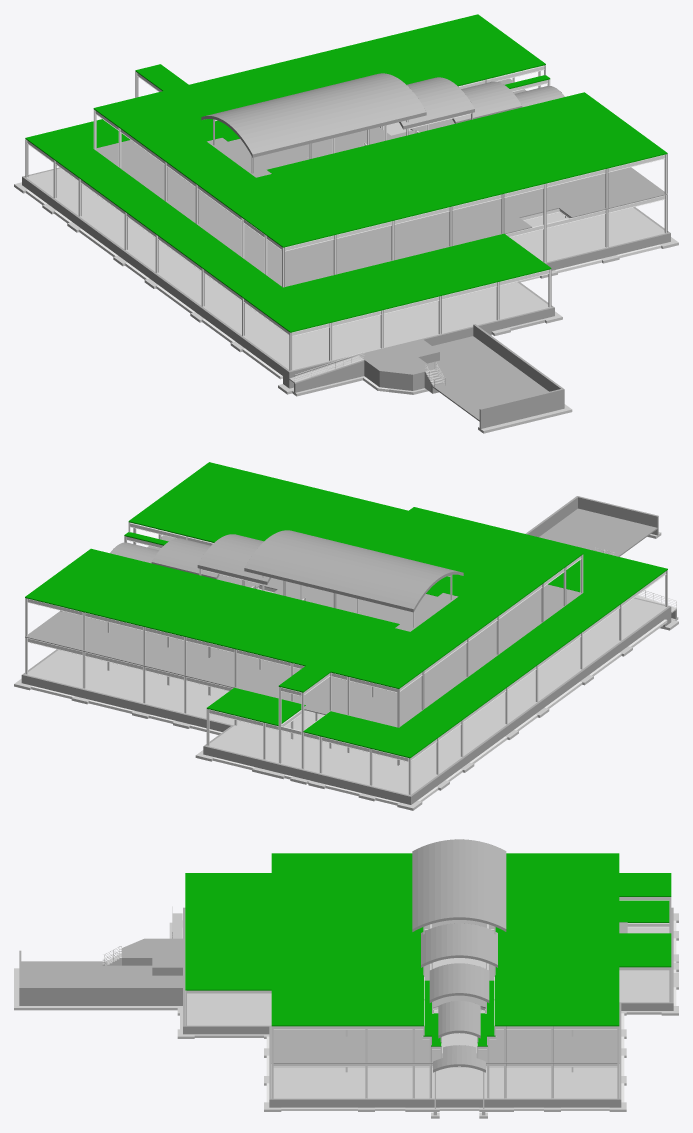
3 views of the same model, one above another, from view 1: azimuth 30°, elevation 25°; view 2: azimuth 150°, elevation 25°; view 3: azimuth 270°, elevation 25° (orthographic). The views are drawn at different scales.
Parts seen in each view (by area): view 1: 22_kIllv127wWuzeSbBoPm, 2oJ$jhEMn3nhAqn0NbtYKu, 2XnCNfbvb5mfgxvK1MPFfM, 3yX498NoH6cAogvPd4Mk$Y, 0rgLSgKBf54Qc3od1vyY2Z, 1lGrrtZObD3BCuxBCd$E_H, 30URw5qYD7VfcU$zAl5afl, 0rgLSgKBf54Qc3od1vyYy9, 2lH_RQeBDBG8rH6PWO_5fC, 31f4fEYc5F6fw4dve_O20g, 0EBxs8wY934BfjQnQnJP9Z, 0rgLSgKBf54Qc3od1vyYzb (+7 smaller); view 2: 22_kIllv127wWuzeSbBoPm, 2XnCNfbvb5mfgxvK1MPFfM, 3yX498NoH6cAogvPd4Mk$Y, 2oJ$jhEMn3nhAqn0NbtYKu, 0rgLSgKBf54Qc3od1vyY2Z, 1lGrrtZObD3BCuxBCd$E_H, 30URw5qYD7VfcU$zAl5afl, 3saVcraO9CJRqkF0xoe8dT, 3saVcraO9CJRqkF0xoe8zy, 0rgLSgKBf54Qc3od1vyYy9, 0VsgkmPnbAuO2d6$Acv6Id, 0EBxs8wY934BfjQnQnJP9Z (+6 smaller); view 3: 22_kIllv127wWuzeSbBoPm, 2XnCNfbvb5mfgxvK1MPFfM, 2oJ$jhEMn3nhAqn0NbtYKu, 3yX498NoH6cAogvPd4Mk$Y, 0rgLSgKBf54Qc3od1vyY2Z, 1lGrrtZObD3BCuxBCd$E_H, 3saVcraO9CJRqkF0xoe8_j, 31f4fEYc5F6fw4dve_O27F, 0rgLSgKBf54Qc3od1vyYy9, 0rgLSgKBf54Qc3od1vyYzb, 0VsgkmPnbAuO2d6$Acv6Id, 2lH_RQeBDBG8rH6PWO_5fC (+7 smaller).
Boxes of the visible parts, bbox=[...] form: 22_kIllv127wWuzeSbBoPm: bbox=[93, 14, 667, 247]; 2oJ$jhEMn3nhAqn0NbtYKu: bbox=[25, 119, 551, 332]; 2XnCNfbvb5mfgxvK1MPFfM: bbox=[26, 122, 667, 370]; 3yX498NoH6cAogvPd4Mk$Y: bbox=[94, 75, 667, 287]; 0rgLSgKBf54Qc3od1vyY2Z: bbox=[201, 73, 426, 157]; 1lGrrtZObD3BCuxBCd$E_H: bbox=[427, 336, 548, 421]; 30URw5qYD7VfcU$zAl5afl: bbox=[22, 176, 284, 375]; 0rgLSgKBf54Qc3od1vyYy9: bbox=[399, 77, 474, 129]; 2lH_RQeBDBG8rH6PWO_5fC: bbox=[359, 339, 439, 375]; 31f4fEYc5F6fw4dve_O20g: bbox=[479, 389, 562, 428]; 0EBxs8wY934BfjQnQnJP9Z: bbox=[207, 137, 309, 177]; 0rgLSgKBf54Qc3od1vyYzb: bbox=[452, 81, 522, 123]; 22_kIllv127wWuzeSbBoPm: bbox=[25, 462, 583, 692]; 2XnCNfbvb5mfgxvK1MPFfM: bbox=[25, 589, 666, 795]; 3yX498NoH6cAogvPd4Mk$Y: bbox=[25, 532, 581, 727]; 2oJ$jhEMn3nhAqn0NbtYKu: bbox=[303, 507, 667, 758]; 0rgLSgKBf54Qc3od1vyY2Z: bbox=[244, 530, 463, 612]; 1lGrrtZObD3BCuxBCd$E_H: bbox=[539, 508, 657, 556]; 30URw5qYD7VfcU$zAl5afl: bbox=[409, 610, 664, 804]; 3saVcraO9CJRqkF0xoe8dT: bbox=[203, 745, 409, 804]; 3saVcraO9CJRqkF0xoe8zy: bbox=[21, 674, 231, 731]; 0rgLSgKBf54Qc3od1vyYy9: bbox=[197, 534, 270, 584]; 0VsgkmPnbAuO2d6$Acv6Id: bbox=[206, 687, 305, 726]; 0EBxs8wY934BfjQnQnJP9Z: bbox=[358, 593, 458, 631]; 22_kIllv127wWuzeSbBoPm: bbox=[271, 853, 671, 1026]; 2XnCNfbvb5mfgxvK1MPFfM: bbox=[185, 909, 669, 1098]; 2oJ$jhEMn3nhAqn0NbtYKu: bbox=[185, 873, 671, 990]; 3yX498NoH6cAogvPd4Mk$Y: bbox=[271, 920, 627, 1063]; 0rgLSgKBf54Qc3od1vyY2Z: bbox=[412, 839, 506, 931]; 1lGrrtZObD3BCuxBCd$E_H: bbox=[21, 961, 182, 987]; 3saVcraO9CJRqkF0xoe8_j: bbox=[269, 1098, 619, 1107]; 31f4fEYc5F6fw4dve_O27F: bbox=[19, 987, 182, 1005]; 0rgLSgKBf54Qc3od1vyYy9: bbox=[421, 923, 497, 967]; 0rgLSgKBf54Qc3od1vyYzb: bbox=[429, 963, 489, 1002]; 0VsgkmPnbAuO2d6$Acv6Id: bbox=[619, 933, 671, 967]; 2lH_RQeBDBG8rH6PWO_5fC: bbox=[122, 938, 182, 968].
Size of the model in its own units: 55.69 by 16.02 by 77.1.
